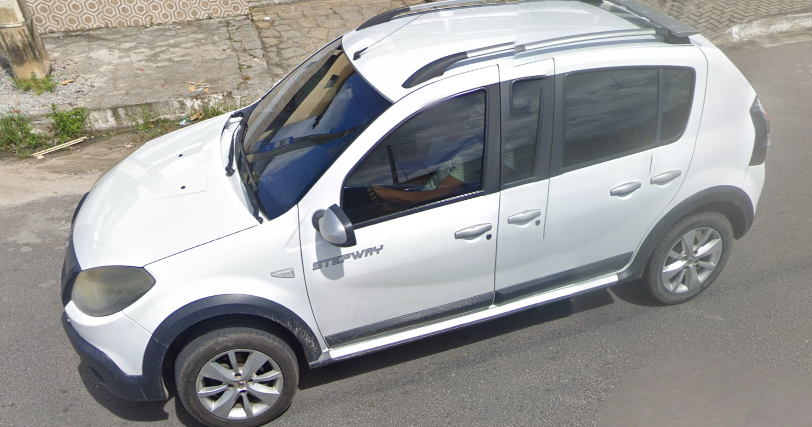car: (64, 5, 772, 427)
